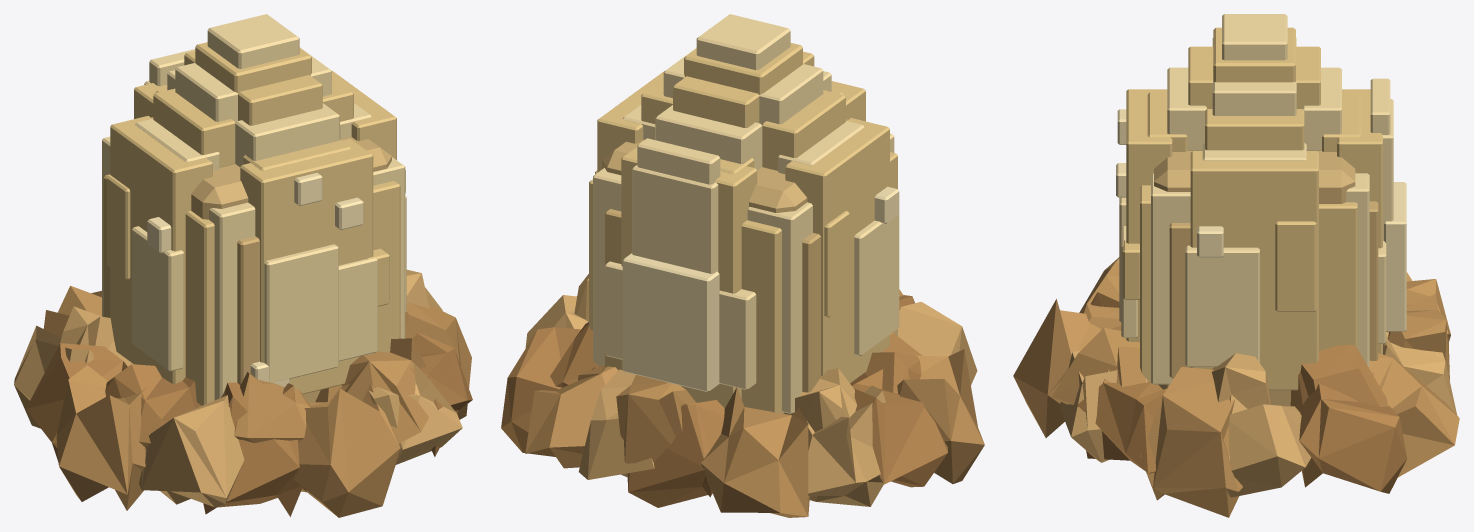
The model's file is Sunstone Monolith Egg.fbx.
3 renders of one model, left to right at view 1: azimuth 30°, elevation 25°; view 2: azimuth 150°, elevation 25°; view 3: azimuth 270°, elevation 25°, orthographic. The views are drawn at different scales.
Parts seen in each view (by area): view 1: Long face 1.1, Ochre shard 01, Long face 4.1, Raised limestone plate 01, Ochre shard 13, Ochre shard 14, Raised limestone plate 15, Long face 4.3, Long face 1.2, Ochre shard 15, Ochre shard 16, Crown step 2.1 (+34 smaller); view 2: Raised limestone plate 08, Long face 4.1, Ochre shard 10, Raised limestone plate 07, Long face 3.3, Ochre shard 11, Ochre shard 12, Ochre shard 13, Raised limestone plate 15, Ochre shard 09, Long face 3.1, Ochre shard 07 (+30 smaller); view 3: Long face 2.1, Ochre shard 04, Ochre shard 06, Raised limestone plate 12, Ochre shard 05, Long face 2.3, Ochre shard 01, Ochre shard 07, Ochre shard 03, Long face 2.2, Long face 1.1, Raised limestone plate 13 (+33 smaller).
Part boxes in pixels (x1=…): Long face 1.1: x1=240, y1=138, x2=373, y2=394; Ochre shard 01: x1=293, y1=383, x2=400, y2=517; Long face 4.1: x1=110, y1=115, x2=212, y2=383; Raised limestone plate 01: x1=264, y1=244, x2=338, y2=382; Ochre shard 13: x1=56, y1=365, x2=146, y2=510; Ochre shard 14: x1=139, y1=395, x2=244, y2=507; Raised limestone plate 15: x1=132, y1=226, x2=184, y2=371; Long face 4.3: x1=185, y1=211, x2=214, y2=405; Long face 1.2: x1=209, y1=202, x2=255, y2=399; Ochre shard 15: x1=203, y1=382, x2=302, y2=516; Ochre shard 16: x1=315, y1=338, x2=429, y2=443; Crown step 2.1: x1=235, y1=103, x2=339, y2=166; Raised limestone plate 08: x1=622, y1=253, x2=719, y2=392; Long face 4.1: x1=785, y1=118, x2=889, y2=382; Ochre shard 10: x1=700, y1=387, x2=809, y2=517; Raised limestone plate 07: x1=632, y1=165, x2=718, y2=273; Long face 3.3: x1=741, y1=220, x2=784, y2=413; Ochre shard 11: x1=807, y1=385, x2=885, y2=506; Ochre shard 12: x1=852, y1=369, x2=947, y2=487; Ochre shard 13: x1=897, y1=349, x2=984, y2=483; Raised limestone plate 15: x1=854, y1=214, x2=899, y2=355; Ochre shard 09: x1=627, y1=400, x2=724, y2=507; Long face 3.1: x1=621, y1=147, x2=757, y2=408; Ochre shard 07: x1=525, y1=365, x2=618, y2=468; Long face 2.1: x1=1190, y1=151, x2=1318, y2=390; Ochre shard 04: x1=1140, y1=367, x2=1242, y2=517; Ochre shard 06: x1=1295, y1=372, x2=1407, y2=493; Raised limestone plate 12: x1=1185, y1=245, x2=1259, y2=366; Ochre shard 05: x1=1227, y1=404, x2=1311, y2=497; Long face 2.3: x1=1319, y1=202, x2=1357, y2=350; Ochre shard 01: x1=1013, y1=299, x2=1101, y2=437; Ochre shard 07: x1=1369, y1=353, x2=1459, y2=477; Ochre shard 03: x1=1077, y1=369, x2=1166, y2=473; Long face 2.2: x1=1151, y1=173, x2=1190, y2=384; Long face 1.1: x1=1126, y1=89, x2=1172, y2=342; Raised limestone plate 13: x1=1275, y1=221, x2=1316, y2=311.
Size of the model in its own units: 339 by 319 by 316.
